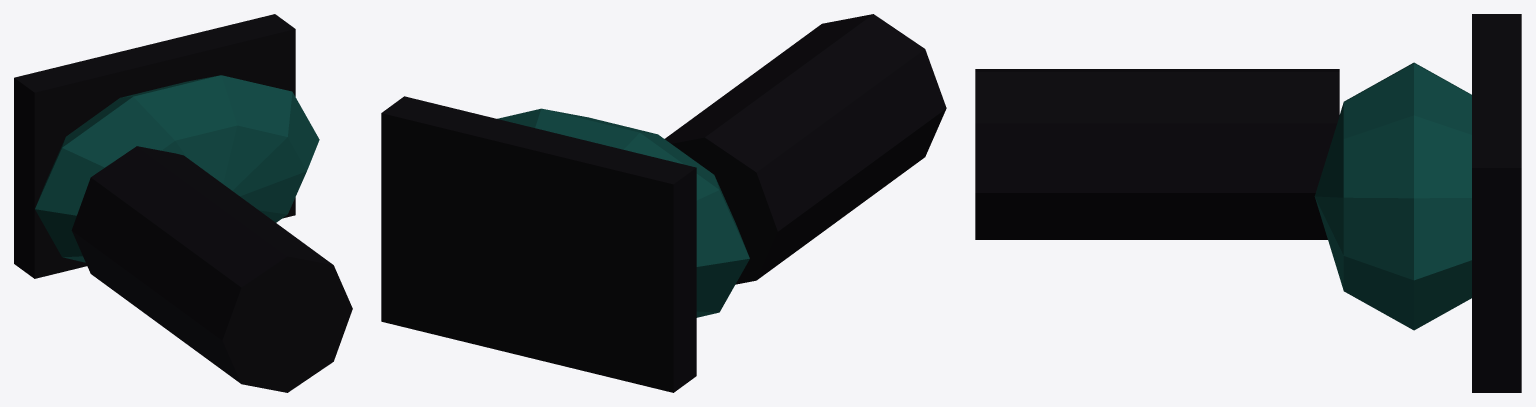
The model's file is Resident2LeftLeg.obj.
3 renders of one model, left to right at view 1: azimuth 30°, elevation 25°; view 2: azimuth 150°, elevation 25°; view 3: azimuth 270°, elevation 25°, orthographic. The views are drawn at different scales.
Parts seen in each view (by area): view 1: Resident2LeftLeg; view 2: Resident2LeftLeg; view 3: Resident2LeftLeg.
Part boxes in pixels (<box>): Resident2LeftLeg: <box>14,14,352,392</box>; Resident2LeftLeg: <box>381,14,946,392</box>; Resident2LeftLeg: <box>975,14,1521,392</box>.
Bounding box in the file's own units: 48 × 30 × 66.
